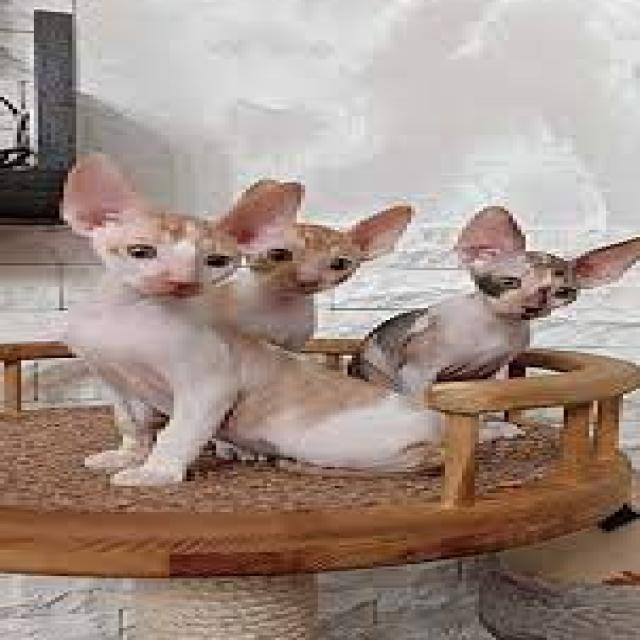Cornish Rex: (51, 151, 421, 476), (352, 197, 640, 400), (220, 170, 420, 338)
